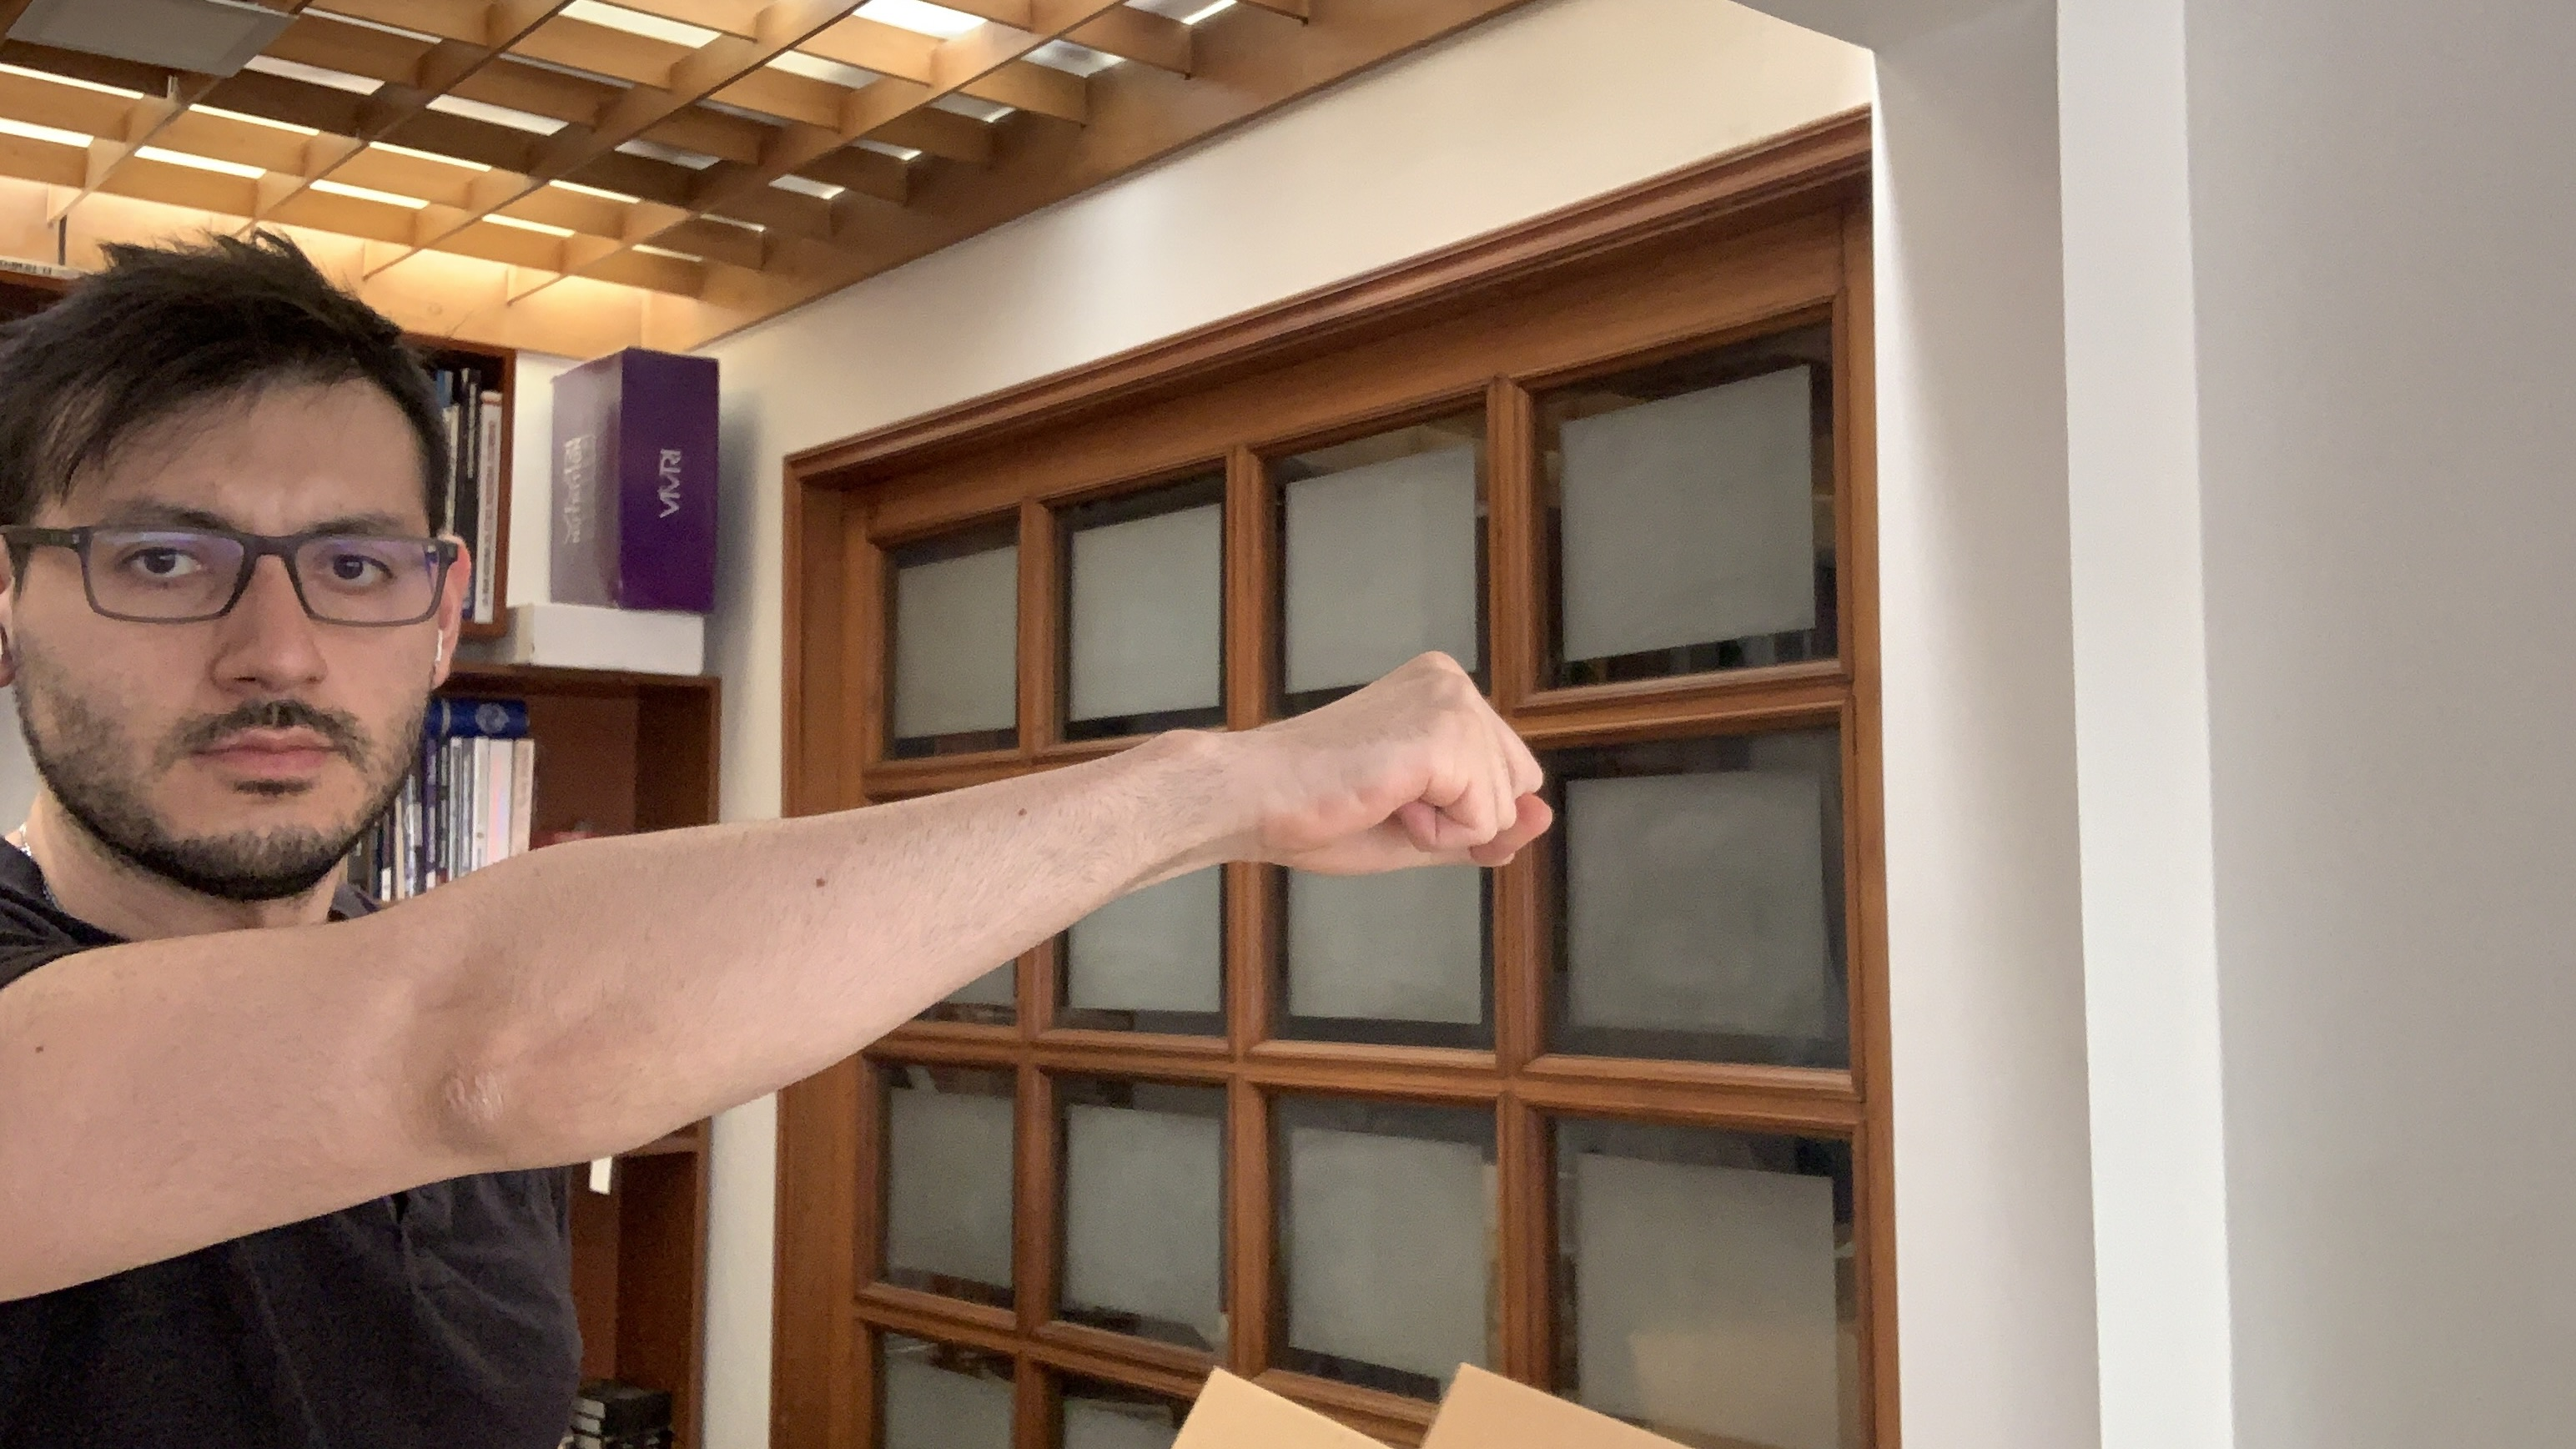Yes: (1187, 642, 1576, 895)
